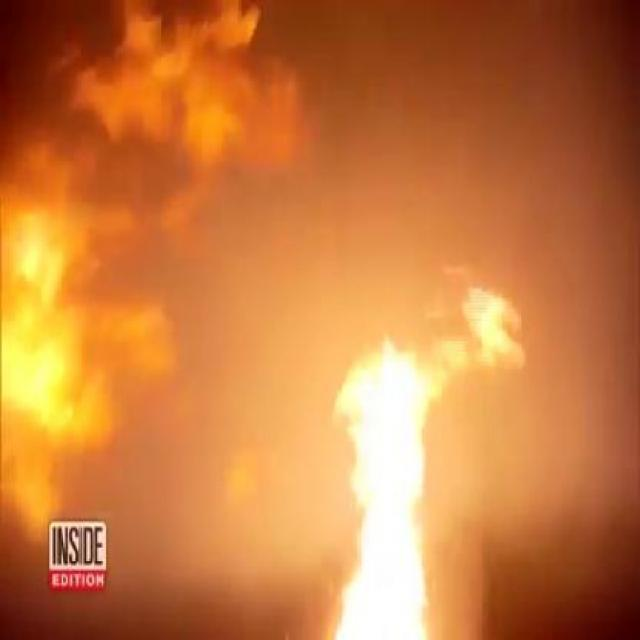fire: (334, 295, 490, 640)
